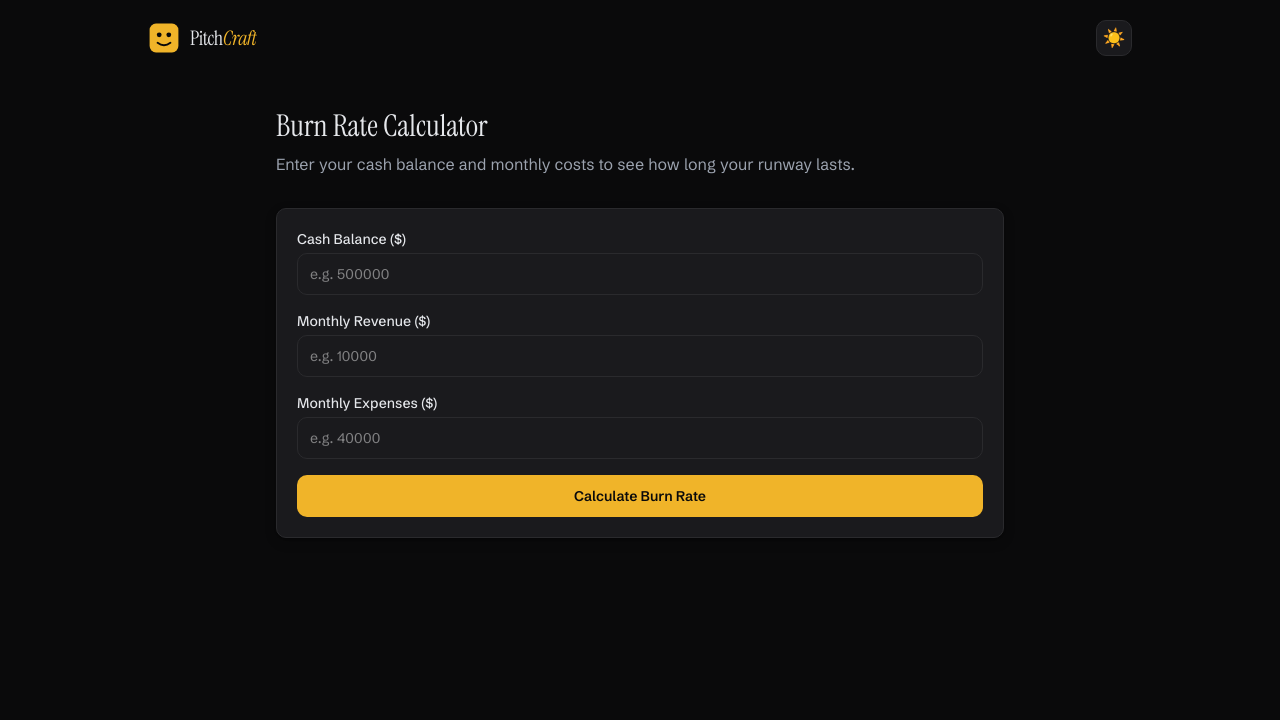
Scenario: BurnRatePage › calculates burn rate on submit
The width and height of the screenshot is (1280, 720).
Type "600000" into the number field with placeholder "e.g. 500000" at (640, 274), box [297,253,983,295]
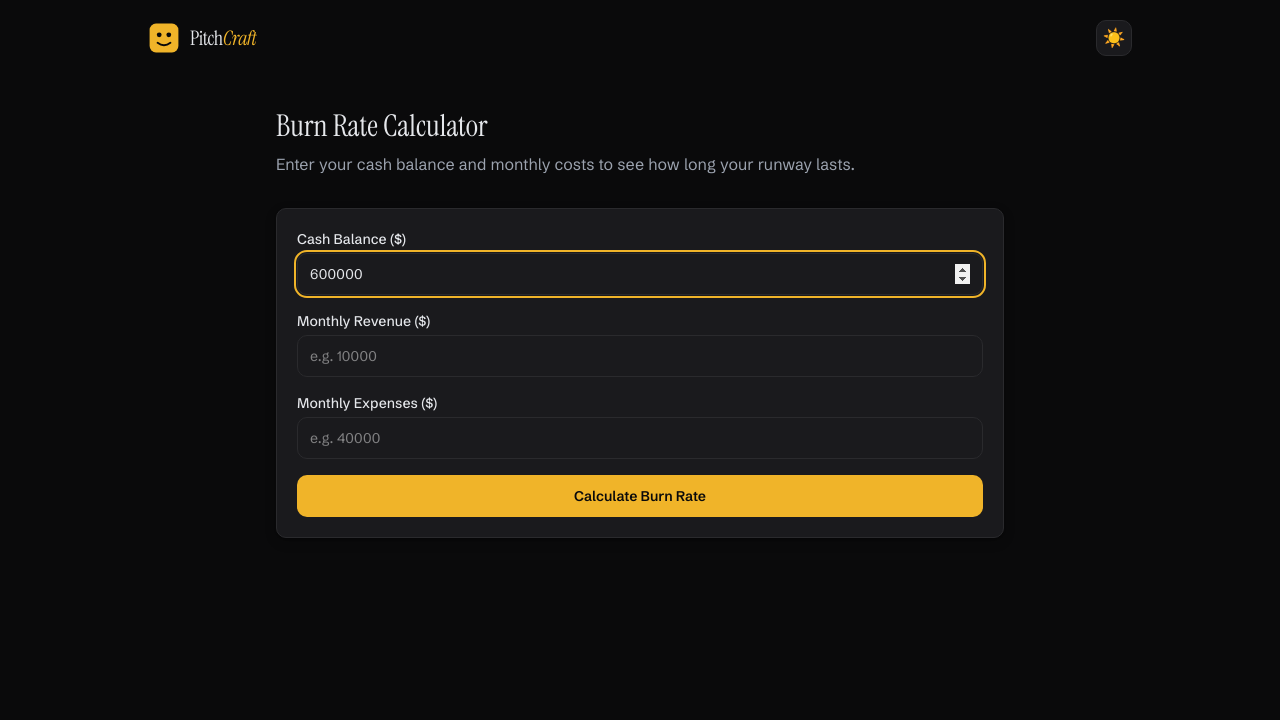
Type "10000" into the number field with placeholder "e.g. 10000" at (640, 356), box [297,335,983,377]
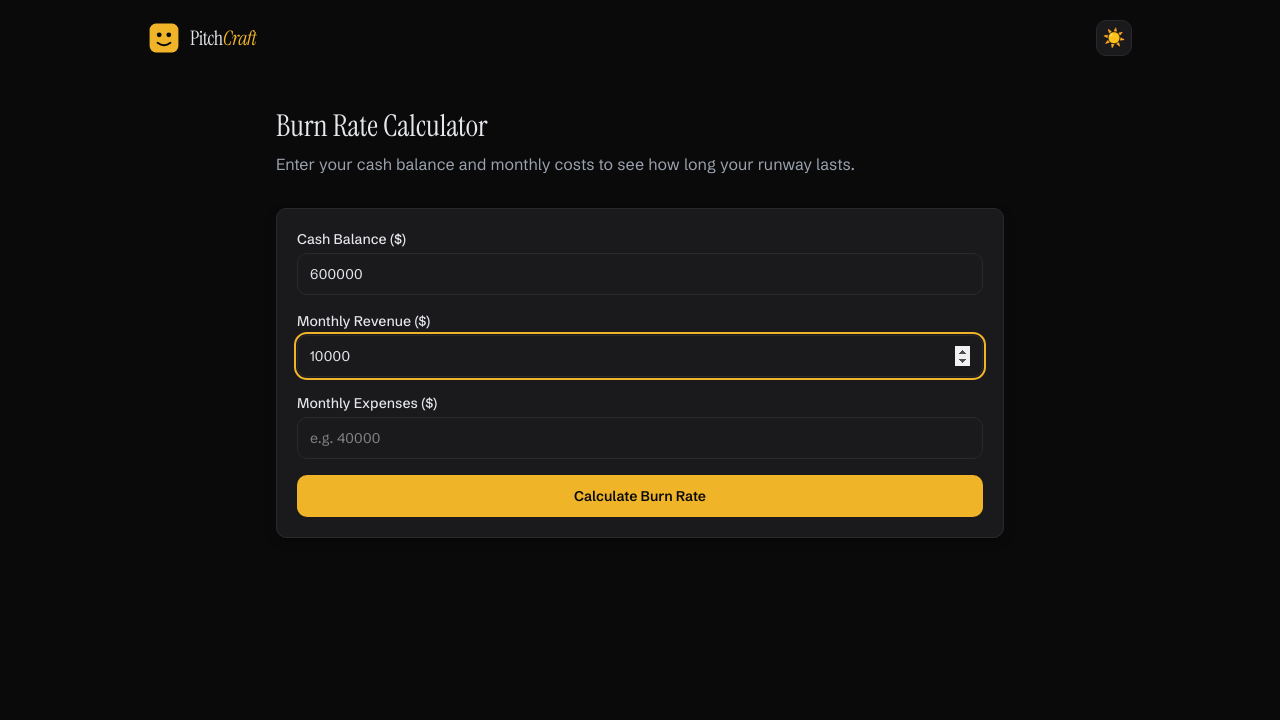
Type "40000" into the number field with placeholder "e.g. 40000" at (640, 438), box [297,417,983,459]
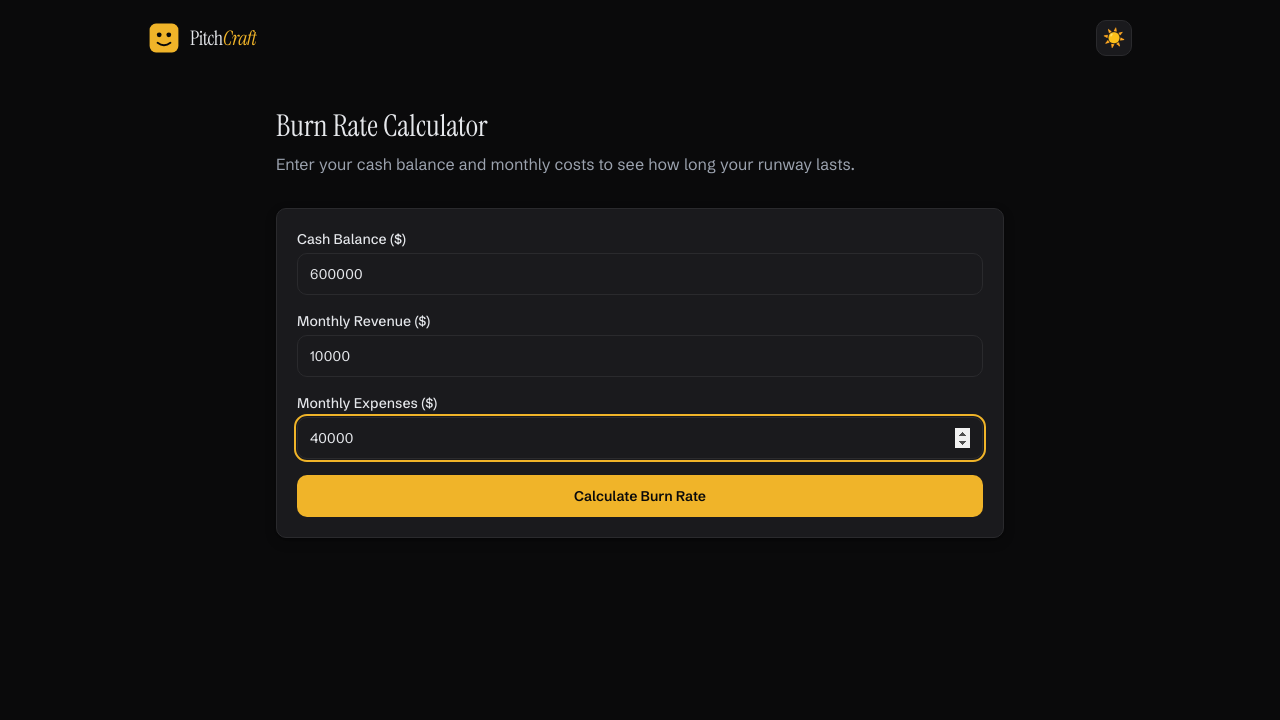
Click the button "Calculate Burn Rate" at (640, 496), box [297,475,983,517]
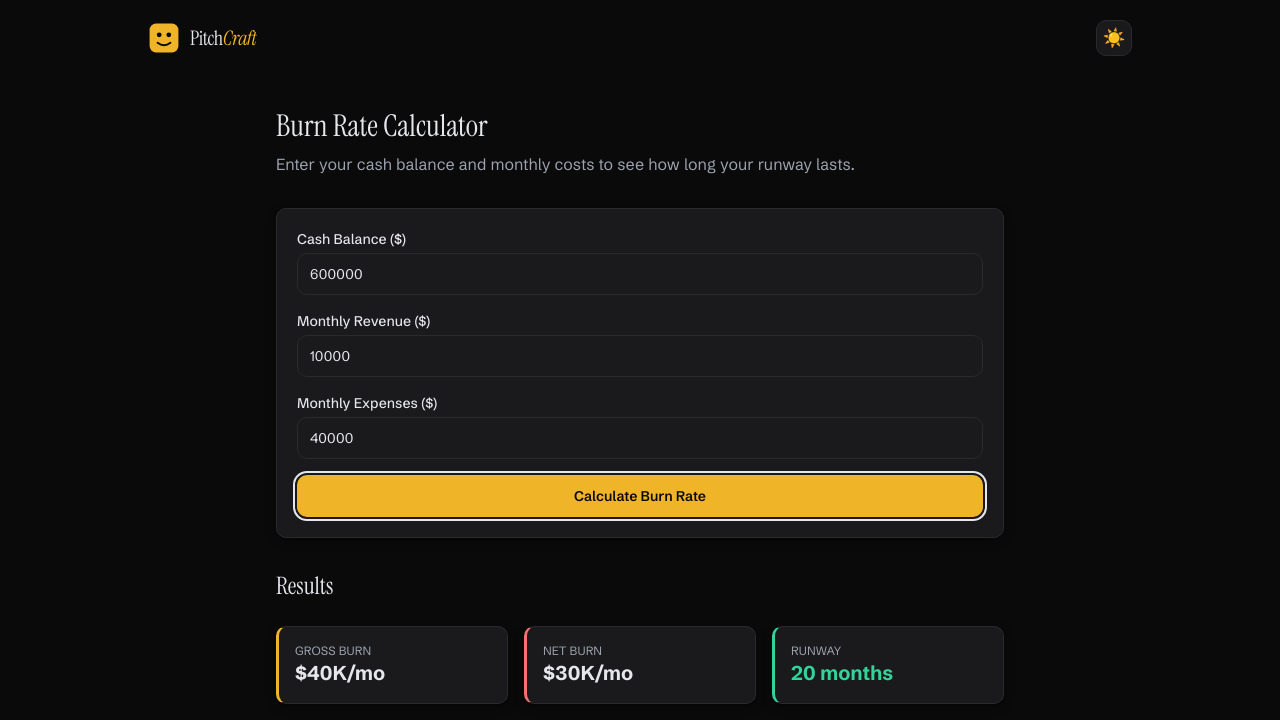
Check: the heading "Results" is shown, box [276,570,333,601]
Check: the text "20 months" is shown, box [791,660,893,685]
